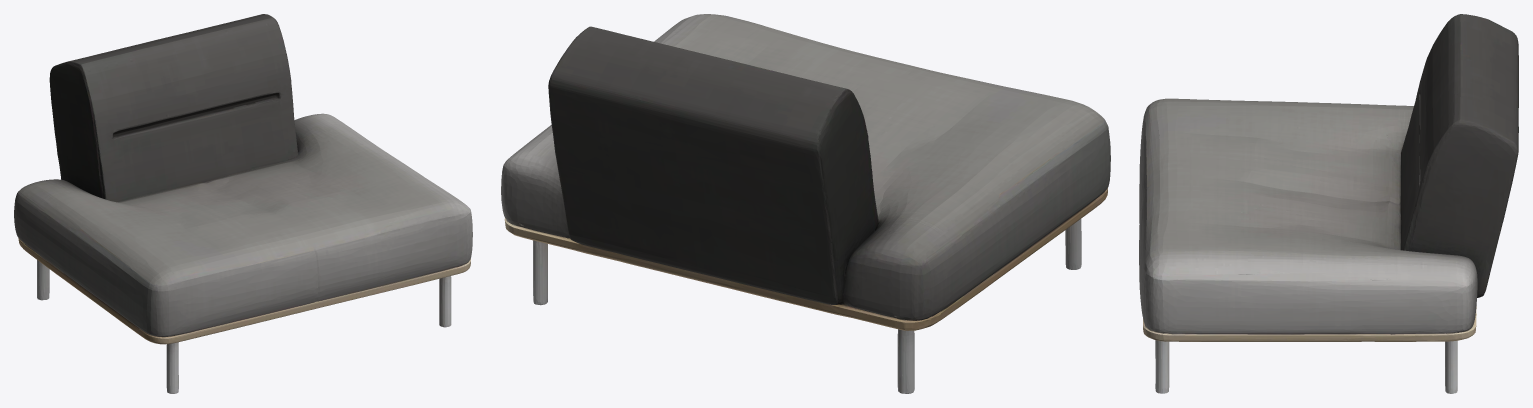
Rendered from 803b552c-b16c-415e-a560-ddf261aabcfc.glb.
3 views of the same model, side by side, from view 1: azimuth 30°, elevation 25°; view 2: azimuth 150°, elevation 25°; view 3: azimuth 270°, elevation 25° (orthographic). The views are drawn at different scales.
Visible parts, largest first — view 1: world; view 2: world; view 3: world.
Part boxes in pixels (x1=…): world: x1=14, y1=14, x2=472, y2=393; world: x1=501, y1=14, x2=1110, y2=393; world: x1=1139, y1=14, x2=1518, y2=393.
Size of the model in its own units: 0.9999 by 0.6475 by 0.8929.
1 material, 1 textured.
